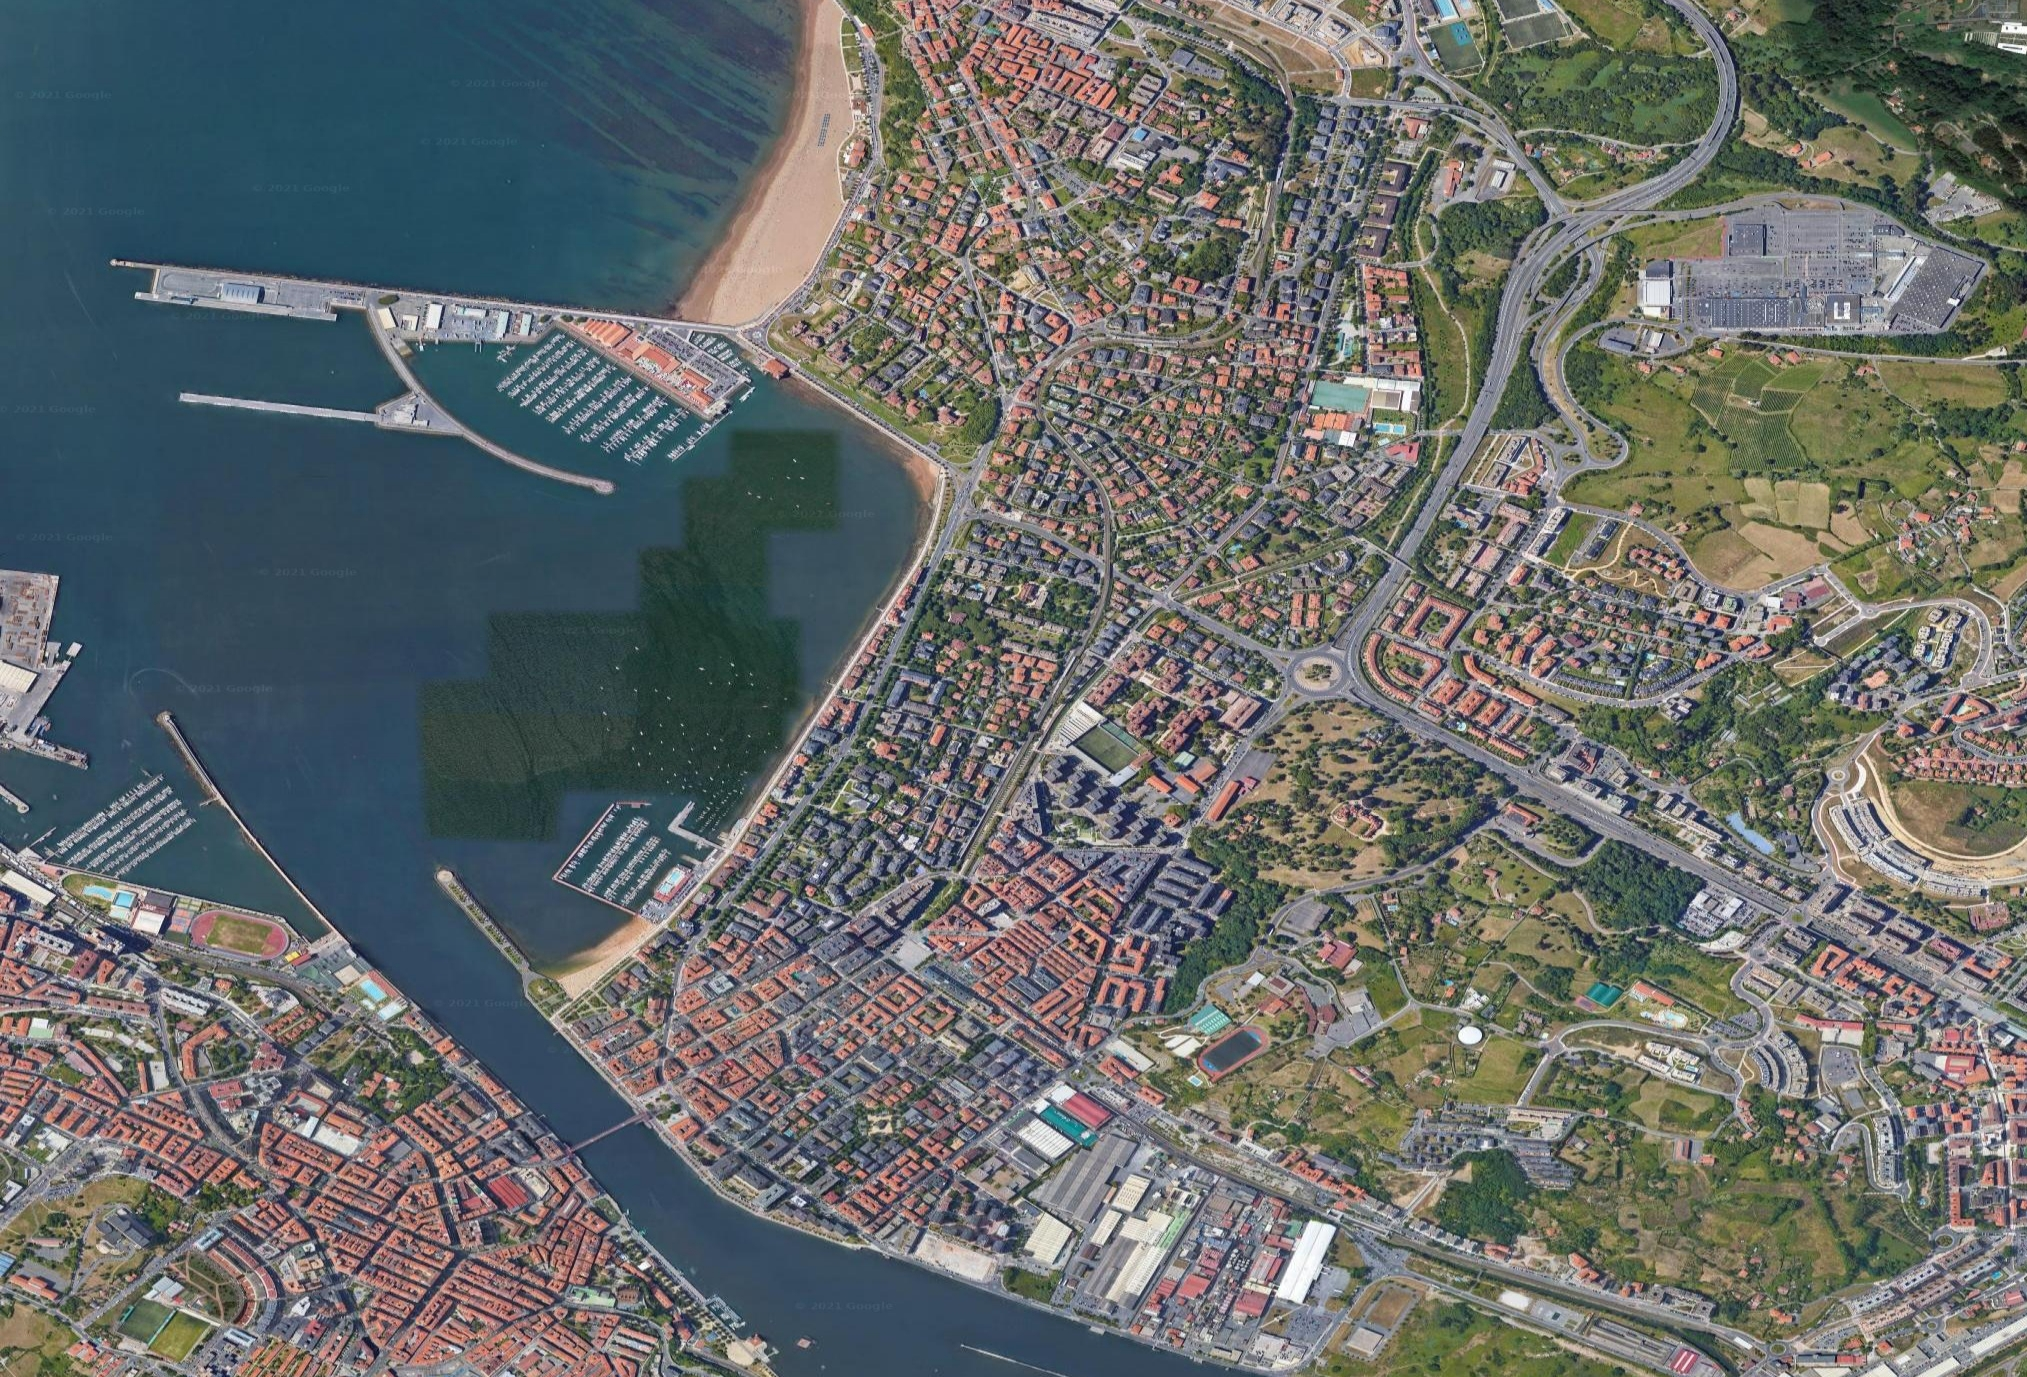harbor: (2, 244, 914, 1000)
industrial: (1013, 1137, 1349, 1348), (1680, 195, 1966, 360)
motorway: (1331, 464, 1455, 675), (1517, 773, 1723, 888), (1504, 164, 1672, 289), (1438, 278, 1548, 469), (1343, 672, 1518, 779), (1670, 2, 1747, 174)
